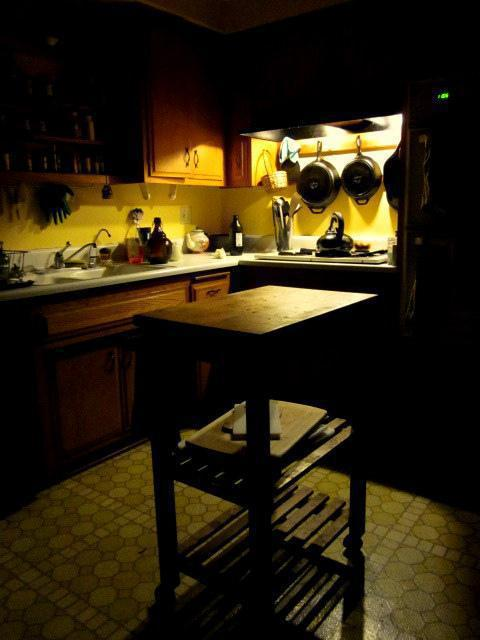Lavaplatos: (27, 225, 161, 306)
